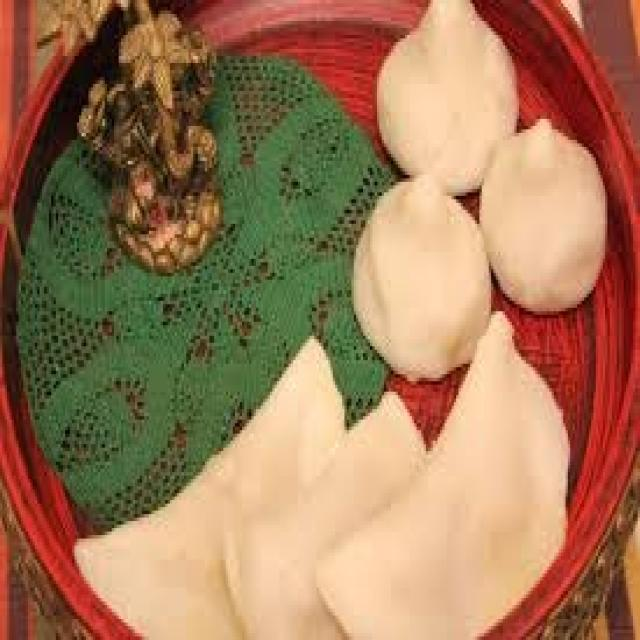poorna kolukattai: (79, 342, 574, 640), (344, 0, 631, 399)
